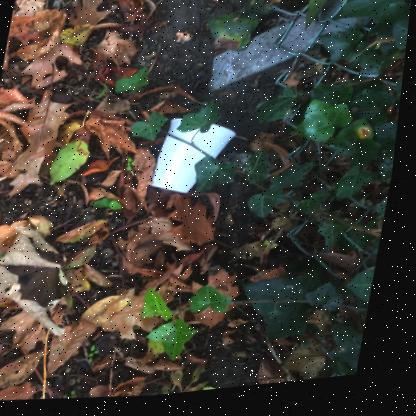Waste: (153, 123, 209, 198), (196, 129, 239, 164)
